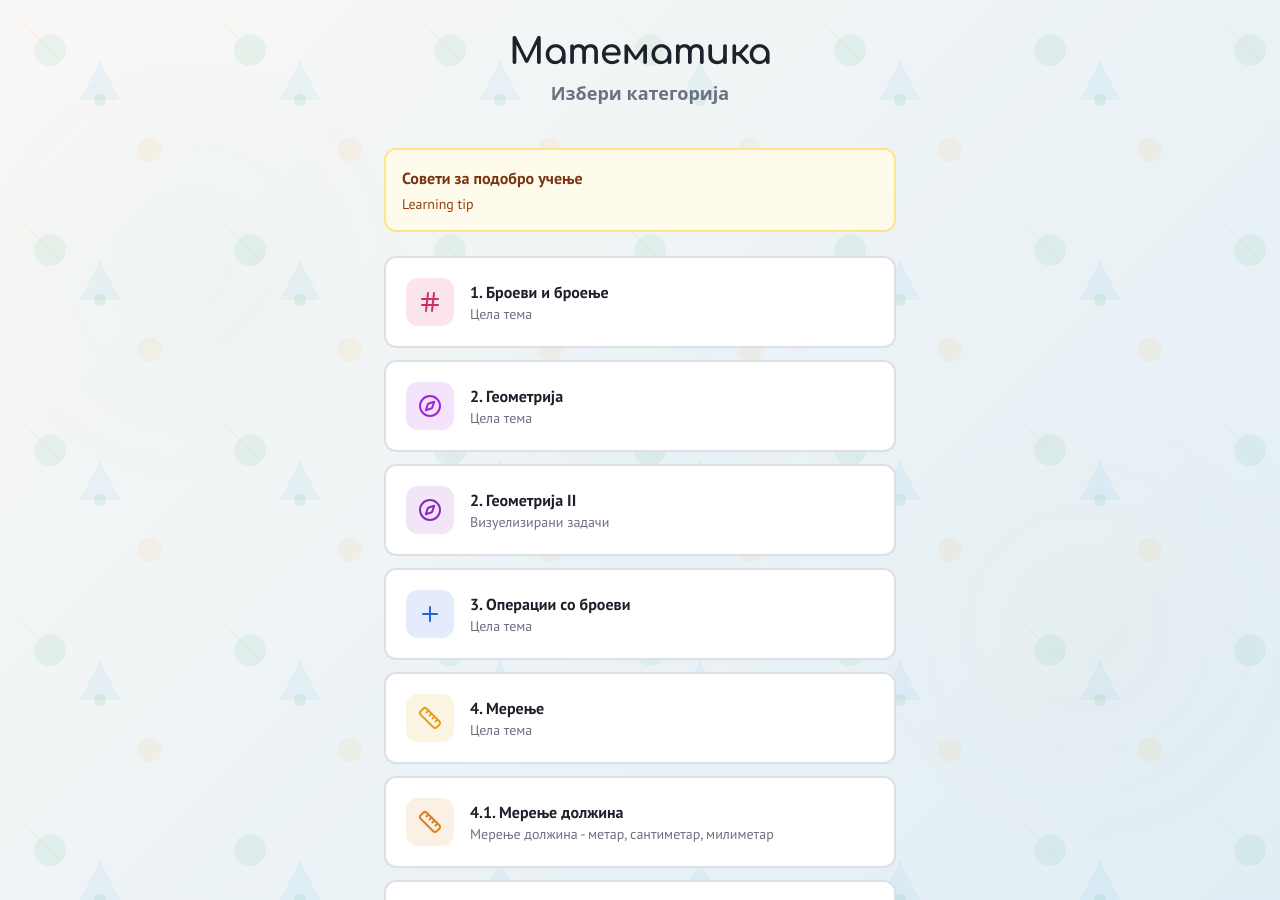
Test: quiz mode navigation › shows mode selection after choosing a category, before loading questions
Click the link "1. Броеви и броење Цела тема".
click(430, 302)  # box [384,256,896,348]
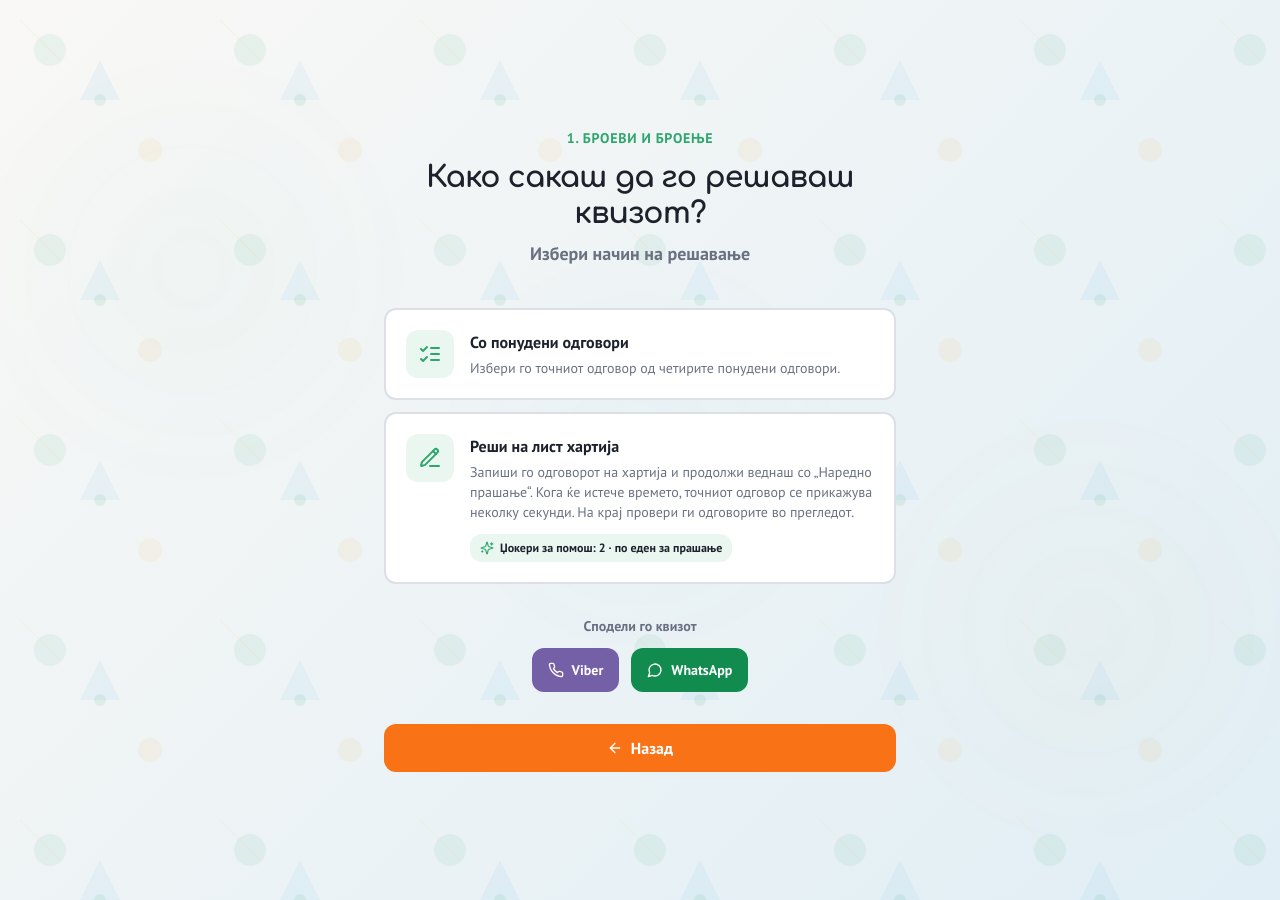
Result: the button "Со понудени одговори" is shown at [384,308,896,400]
Result: the button "Реши на лист хартија" is shown at [384,412,896,584]
